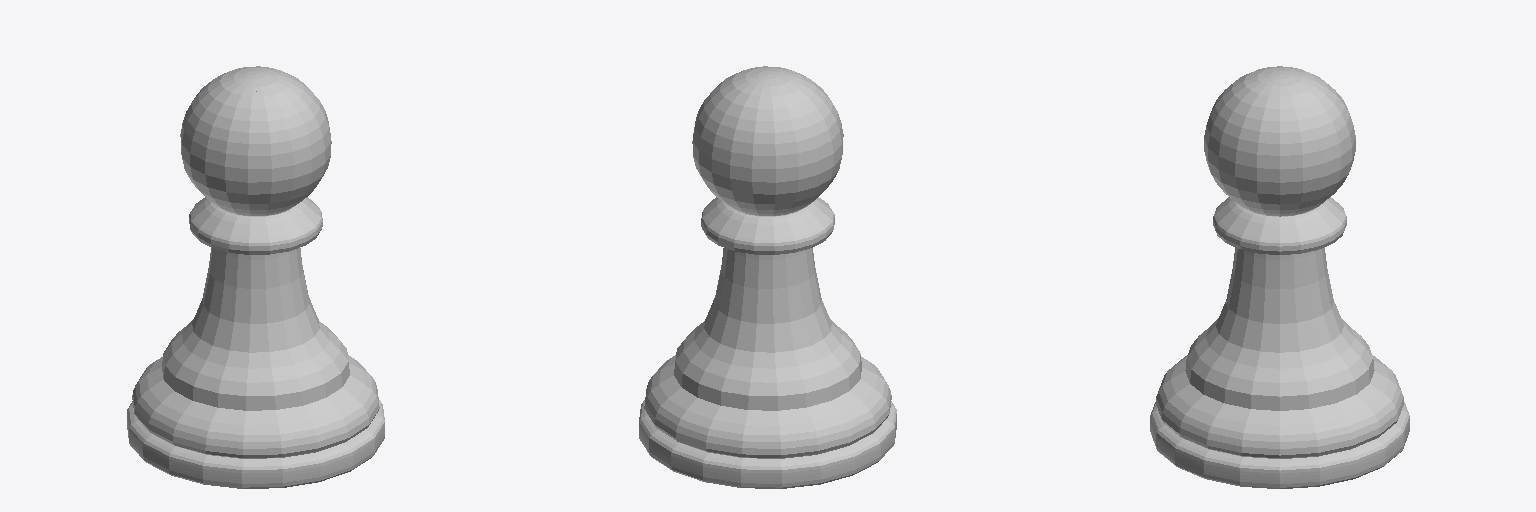
The model's file is pawn_w_8.obj.
3 views of the same model, side by side, from view 1: azimuth 30°, elevation 25°; view 2: azimuth 150°, elevation 25°; view 3: azimuth 270°, elevation 25° (orthographic).
Parts seen in each view (by area): view 1: pawn_w_8; view 2: pawn_w_8; view 3: pawn_w_8.
Part boxes in pixels (left/top/right/bottom): pawn_w_8: left=127, top=66, right=384, bottom=488; pawn_w_8: left=639, top=66, right=896, bottom=488; pawn_w_8: left=1150, top=66, right=1409, bottom=488.
Bounding box in the file's own units: 2.73 × 4.2 × 2.73.